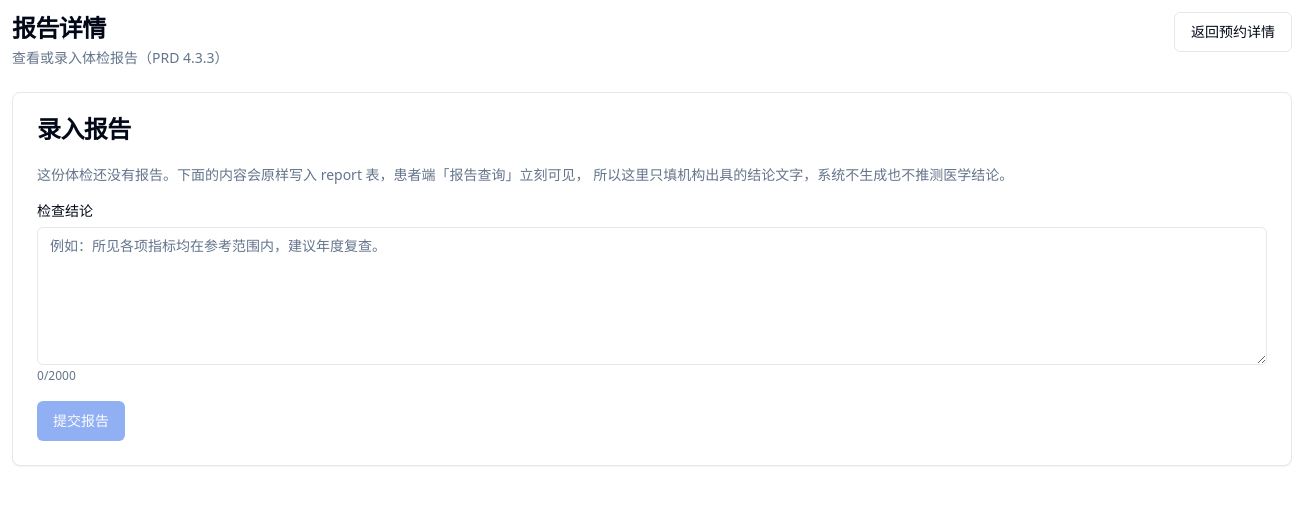
it: PhysicalReportPage › 重复录入被后端拒（5002），拒的那句话原样给管理员看
In the text box: (652, 296) [37,227,1267,365], type "再来一份"
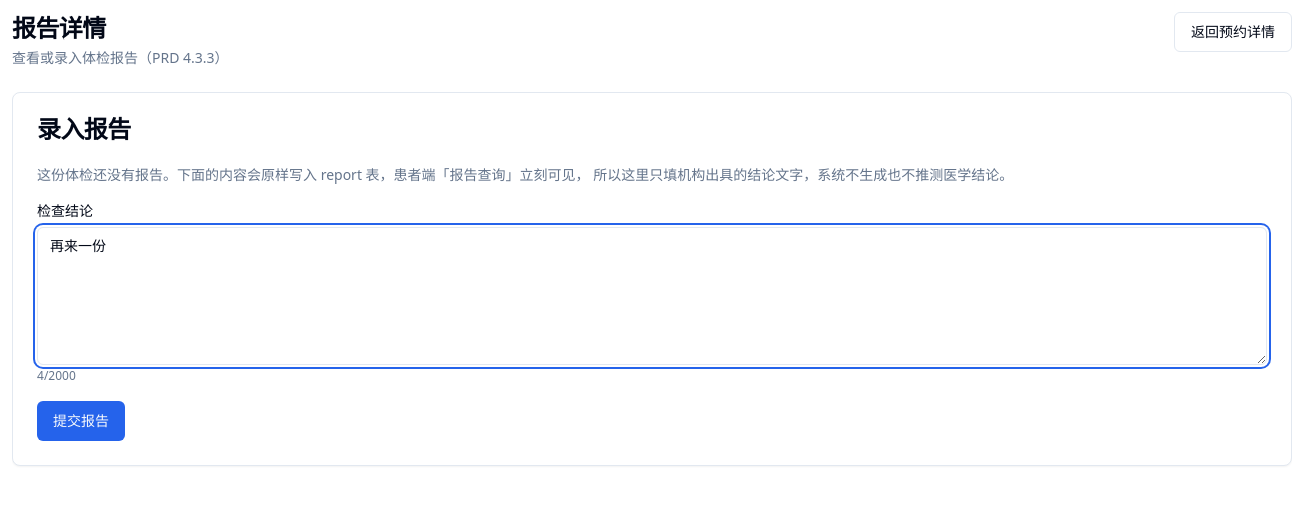
Click the button "提交报告": (81, 421) [37,401,125,441]
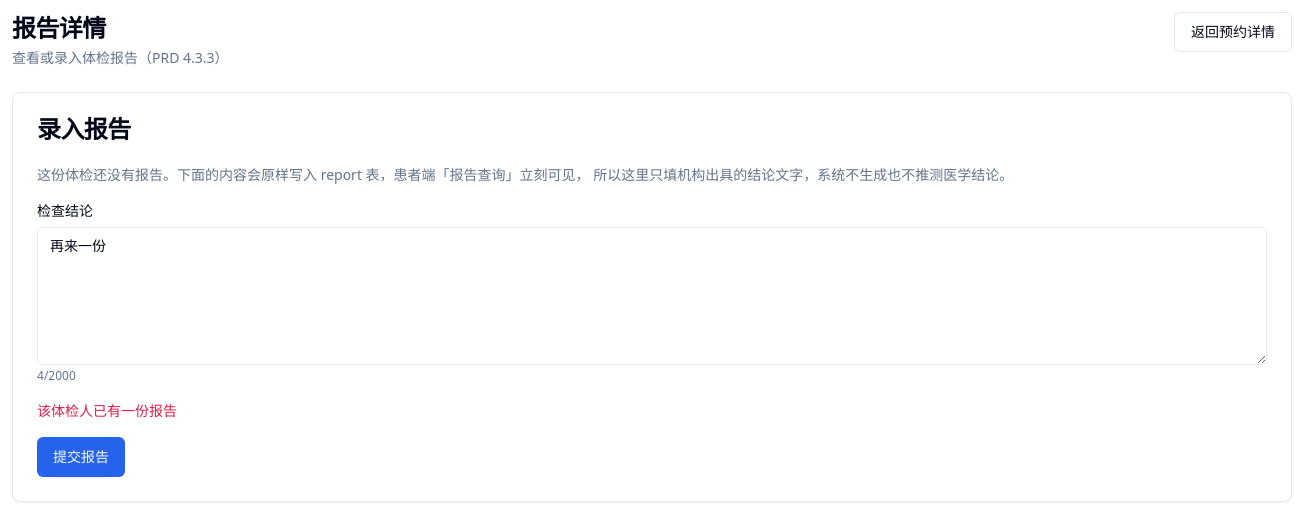
expect the message reads "该体检人已有一份报告": met, box [37,401,177,420]
